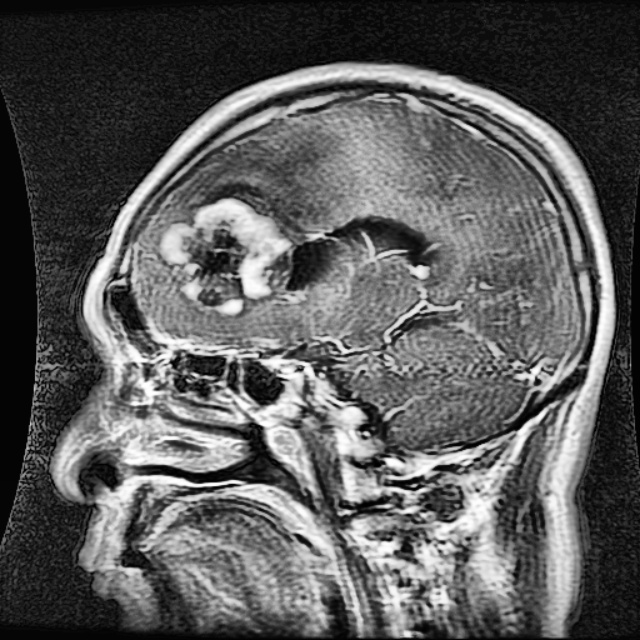Meningioma: (158, 197, 329, 313)
